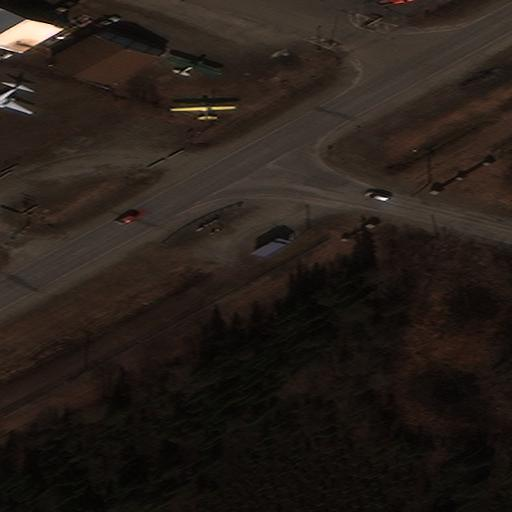Medium Civil Transport: (0, 83, 32, 114)
Small Civil Transport: (167, 100, 234, 122), (169, 56, 222, 75)
